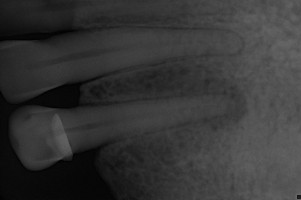Furcation Involvement: (180, 77, 250, 129)
